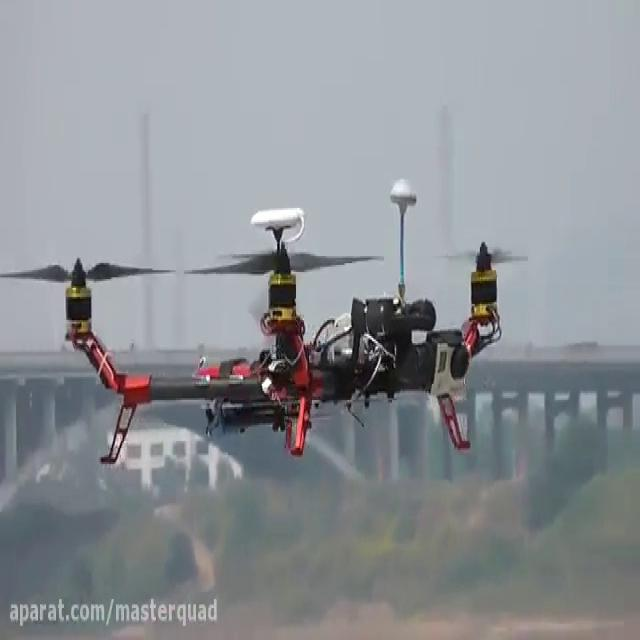drone: (0, 171, 533, 469)
